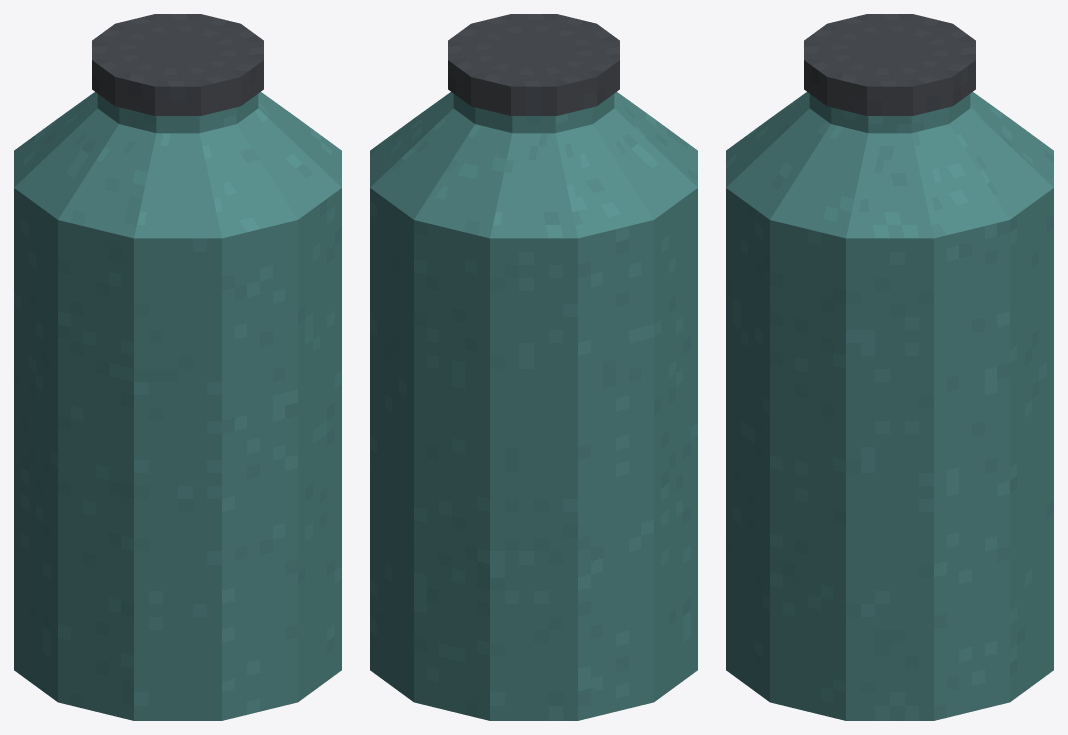
The model's file is bottle_liter.glb.
3 views of the same model, side by side, from view 1: azimuth 30°, elevation 25°; view 2: azimuth 150°, elevation 25°; view 3: azimuth 270°, elevation 25° (orthographic).
Visible parts, largest first — view 1: block_walls, block_shoulder, block_rim or cap, block_foot, block_neck; view 2: block_walls, block_shoulder, block_rim or cap, block_foot, block_neck; view 3: block_walls, block_shoulder, block_rim or cap, block_foot, block_neck.
Boxes of the visible parts, x1,y1,x2,y2 form: block_walls: (14, 188, 341, 720); block_shoulder: (14, 92, 341, 238); block_rim or cap: (92, 14, 263, 115); block_foot: (14, 641, 341, 720); block_neck: (97, 94, 258, 133); block_walls: (370, 188, 697, 720); block_shoulder: (370, 92, 697, 238); block_rim or cap: (448, 14, 619, 115); block_foot: (370, 641, 697, 720); block_neck: (453, 94, 614, 133); block_walls: (726, 188, 1053, 720); block_shoulder: (726, 92, 1053, 238); block_rim or cap: (804, 14, 975, 115); block_foot: (726, 641, 1053, 720); block_neck: (809, 94, 970, 133).
Bounding box in the file's own units: 0.1235 × 0.25 × 0.1235.
Materials: 1 (1 with a texture image).
